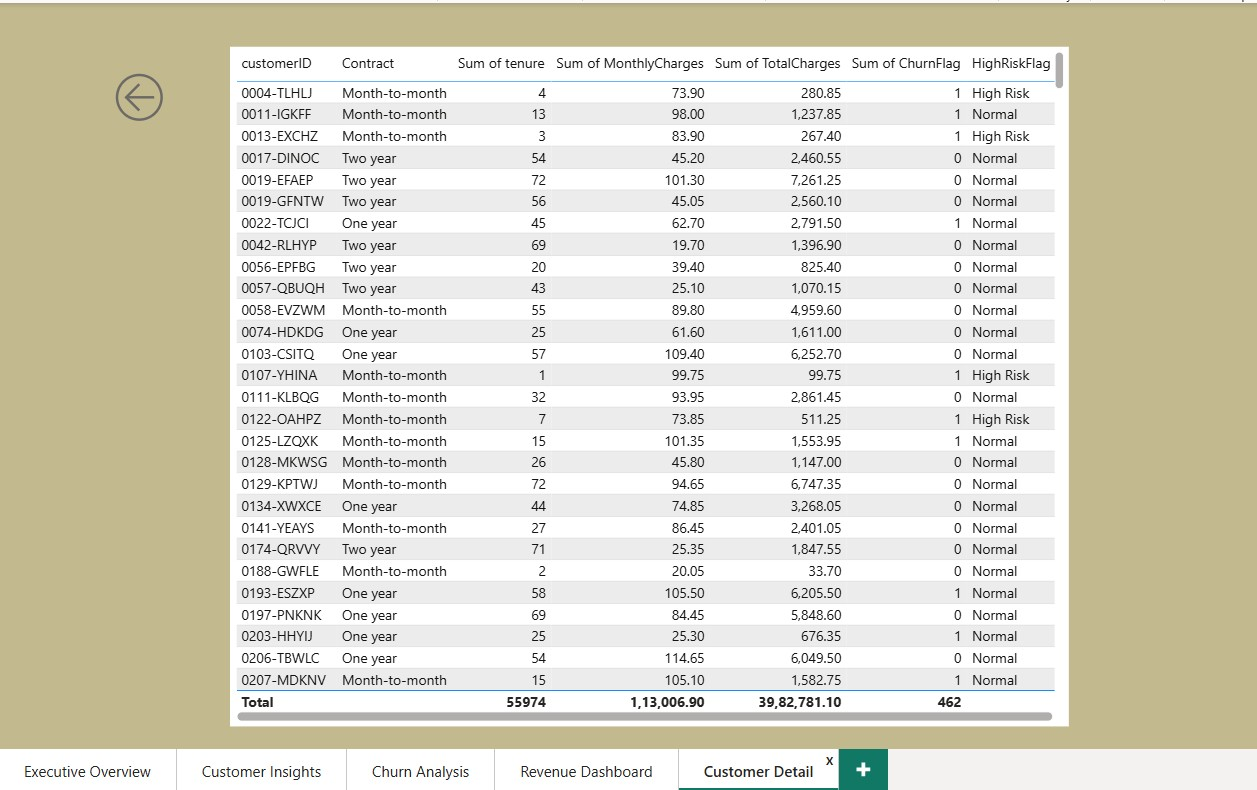

The dashboard page shown, as its layout file describes it:
{"tool":"powerbi","page":{"name":"Customer Detail","canvas":[1280,720],"ordinal":4},"visuals":[{"type":"tableEx","fields":{"Values":["churn_project dim_customer.customerID","churn_project dim_subscription.Contract","Sum(fact_Churn.tenure)","Sum(fact_Churn.MonthlyCharges)","Sum(fact_Churn.TotalCharges)","Sum(fact_Churn.ChurnFlag)","fact_Churn.HighRiskFlag"]},"box":[264.8,42.5,809.6,655.9],"z":0},{"type":"actionButton","box":[148.2,61.7,64.5,59],"z":1000}]}

Visuals, with their boxes on the page's 1280x720 design canvas (x1, y1, x2, y2). These are canvas units, not pixel positions in the 1257x790 screenshot, which may show the page scaled, cropped or inside an application window:
tableEx - churn_project dim_customer.customerID x churn_project dim_subscription.Contract: left=265, top=42, right=1074, bottom=698
actionButton: left=148, top=62, right=213, bottom=121
